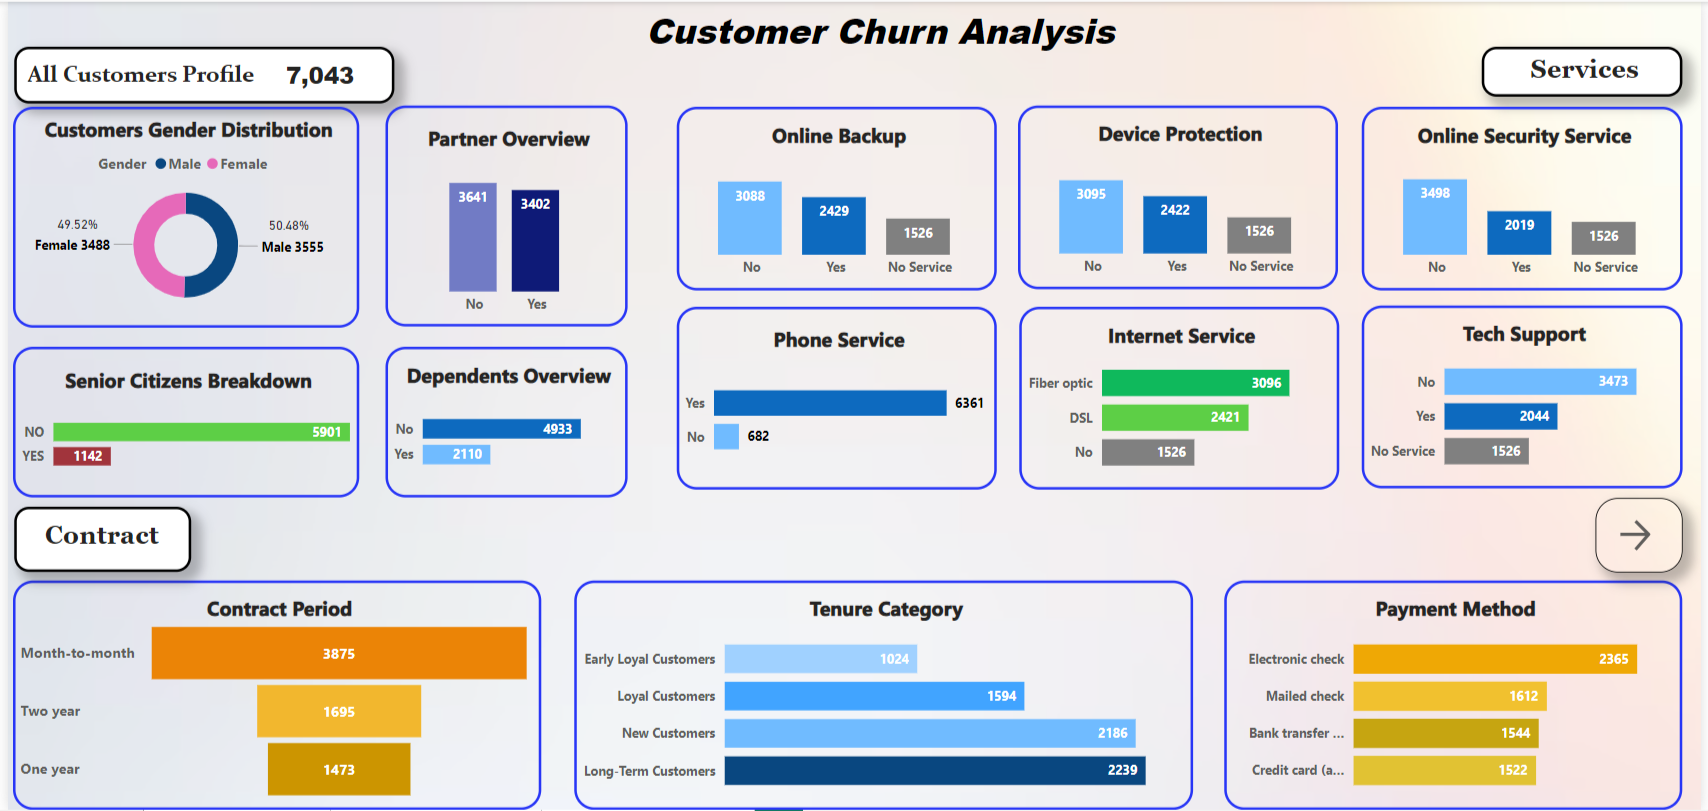

Layout of this report page (visuals, bound fields, positions):
{"tool":"powerbi","page":{"name":"All Customer Profile","canvas":[1600,764],"ordinal":0},"visuals":[{"type":"textbox","title":"Customer Churn Analysis","box":[0,0,1600.3,98.8],"z":0},{"type":"textbox","box":[6.4,42.3,359.3,53.9],"z":1000},{"type":"card","fields":{"Values":["Added Measures.Total No Of Customers"]},"box":[232.3,43.6,124.5,53.9],"z":2000},{"type":"donutChart","title":"Customers Gender Distribution","fields":{"Category":["Customer Churn Data.gender"],"Y":["CountNonNull(Customer Churn Data.gender)"]},"box":[5.1,98.8,327.2,209.2],"z":3000},{"type":"card","fields":{"Values":["Added Measures.Percentage of Female Customers"]},"box":[21.7,196.6,89.3,31.4],"z":4000},{"type":"card","fields":{"Values":["Added Measures.Percentage of MAle Customers"]},"box":[232.3,196.3,65.4,33.4],"z":5000},{"type":"barChart","title":"Senior Citizens Breakdown","fields":{"Category":["Customer Churn Data.SeniorCitizen"],"Y":["CountNonNull(Customer Churn Data.SeniorCitizen)"]},"box":[5.1,326,327.2,142.4],"z":6000},{"type":"barChart","title":" Dependents Overview","fields":{"Category":["Customer Churn Data.Dependents"],"Y":["CountNonNull(Customer Churn Data.Dependents)"]},"box":[356.8,326,228.4,142.4],"z":7000},{"type":"columnChart","title":" Partner Overview","fields":{"Category":["Customer Churn Data.Partner"],"Y":["CountNonNull(Customer Churn Data.Partner)"]},"box":[356.8,97.5,228.4,209.2],"z":8000},{"type":"shape","title":"Services","box":[1392.4,42.3,189.9,47.5],"z":9000},{"type":"barChart","title":"Phone Service","fields":{"Category":["Customer Churn Data.PhoneService"],"Y":["CountNonNull(Customer Churn Data.PhoneService)"]},"box":[631.4,288.7,302,173],"z":10000},{"type":"columnChart","title":"Online Security Service","fields":{"Category":["Customer Churn Data.OnlineSecurity"],"Y":["CountNonNull(Customer Churn Data.OnlineSecurity)"]},"box":[1279.4,98.8,302.9,173.2],"z":11000},{"type":"barChart","title":"Internet Service ","fields":{"Category":["Customer Churn Data.InternetService"],"Y":["CountNonNull(Customer Churn Data.InternetService)"]},"box":[956,288.7,302,173],"z":12000},{"type":"clusteredColumnChart","title":"Online Backup","fields":{"Y":["CountNonNull(Customer Churn Data.OnlineBackup)"],"Category":["Customer Churn Data.OnlineBackup"]},"box":[631.4,98.8,302,173.2],"z":13000},{"type":"clusteredColumnChart","title":"Device Protection","fields":{"Category":["Customer Churn Data.DeviceProtection"],"Y":["CountNonNull(Customer Churn Data.DeviceProtection)"]},"box":[954.8,97.5,302,173.2],"z":14000},{"type":"clusteredBarChart","title":"Tech Support","fields":{"Category":["Customer Churn Data.TechSupport"],"Y":["CountNonNull(Customer Churn Data.TechSupport)"]},"box":[1279.4,287.5,302.9,173],"z":15000},{"type":"funnel","title":" Contract Period","fields":{"Category":["Customer Churn Data.Contract"],"Y":["CountNonNull(Customer Churn Data.Contract)"]},"box":[5.1,546.7,499.2,216.9],"z":16000},{"type":"barChart","title":"Tenure Category ","fields":{"Category":["Customer Churn Data.Tenure Category"],"Y":["CountNonNull(Customer Churn Data.Tenure Category)"]},"box":[535.1,546.7,585.2,216.9],"z":17000},{"type":"barChart","title":"Payment Method ","fields":{"Category":["Customer Churn Data.PaymentMethod"],"Y":["CountNonNull(Customer Churn Data.PaymentMethod)"]},"box":[1149.8,546.7,432.5,216.9],"z":18000},{"type":"actionButton","box":[1500.2,468.4,82.1,70.6],"z":19000},{"type":"textbox","box":[6.4,477.4,166.8,61.6],"z":20000}]}

Visuals, with their boxes in screenshot pixels (x1, y1, x2, y2), scaled from the page's 1600x764 canvas onto the 1708x811 screenshot:
"Customer Churn Analysis" textbox: l=0, t=0, r=1707, b=105
textbox: l=7, t=45, r=390, b=102
card - Added Measures.Total No Of Customers: l=248, t=46, r=381, b=103
"Customers Gender Distribution" donutChart: l=5, t=105, r=355, b=327
card - Added Measures.Percentage of Female Customers: l=23, t=209, r=118, b=242
card - Added Measures.Percentage of MAle Customers: l=248, t=208, r=318, b=244
"Senior Citizens Breakdown" barChart: l=5, t=346, r=355, b=497
" Dependents Overview" barChart: l=381, t=346, r=625, b=497
" Partner Overview" columnChart: l=381, t=103, r=625, b=326
"Services" shape: l=1486, t=45, r=1689, b=95
"Phone Service" barChart: l=674, t=306, r=996, b=490
"Online Security Service" columnChart: l=1366, t=105, r=1689, b=289
"Internet Service " barChart: l=1021, t=306, r=1343, b=490
"Online Backup" clusteredColumnChart: l=674, t=105, r=996, b=289
"Device Protection" clusteredColumnChart: l=1019, t=103, r=1342, b=287
"Tech Support" clusteredBarChart: l=1366, t=305, r=1689, b=489
" Contract Period" funnel: l=5, t=580, r=538, b=810
"Tenure Category " barChart: l=571, t=580, r=1196, b=810
"Payment Method " barChart: l=1227, t=580, r=1689, b=810
actionButton: l=1601, t=497, r=1689, b=572
textbox: l=7, t=507, r=185, b=572
